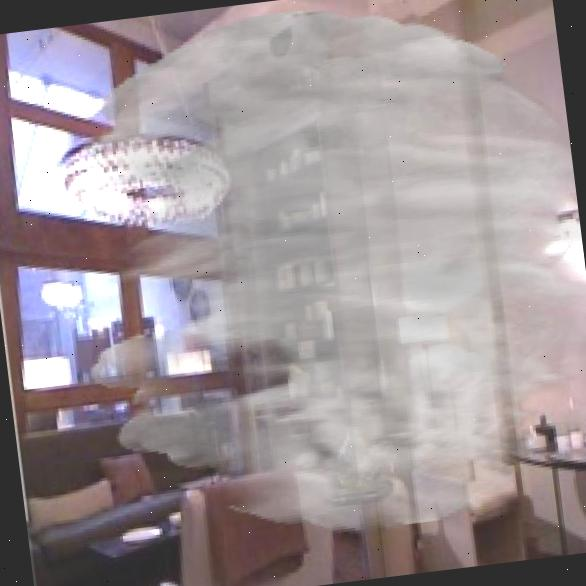smoke: (47, 0, 586, 563)
